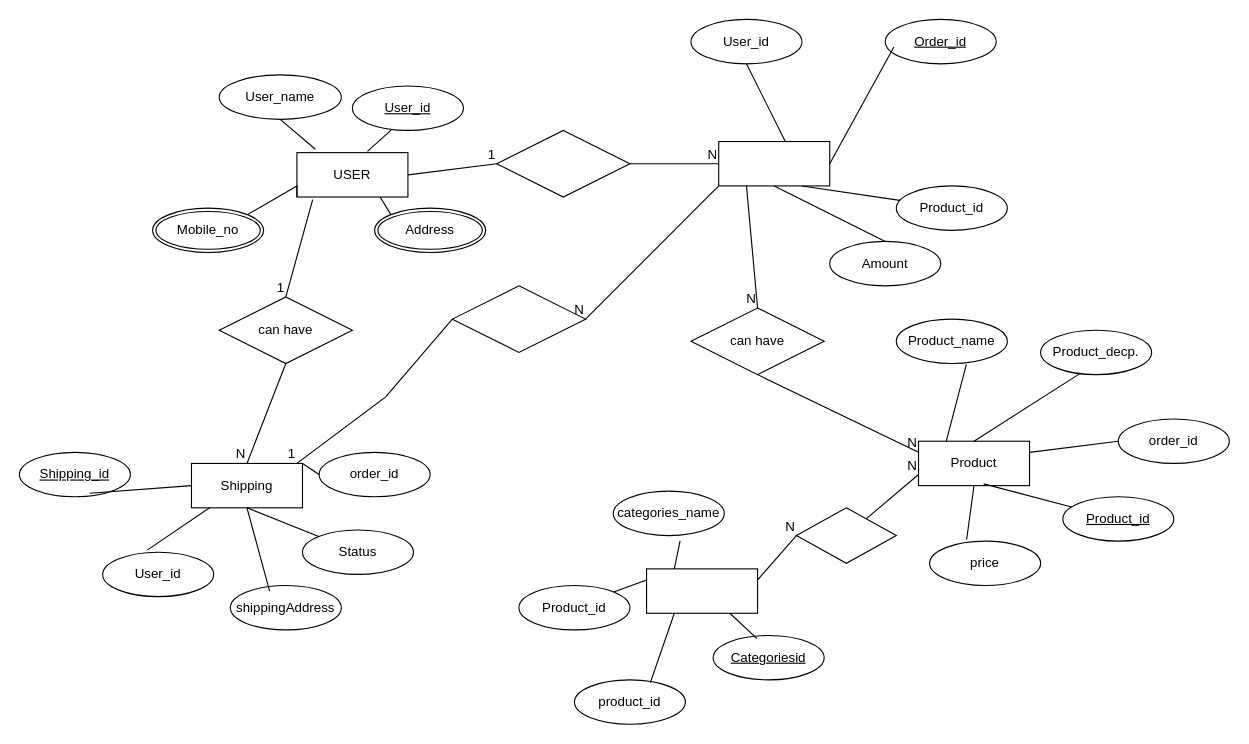
Some shapes in this 1249 by 744 pixel diagram are drawn without their labels. The centre of each missing label's shape, as x and y in pixels:
"belong to" goes at [845,535].
"Categories" goes at [701,590].
"has" goes at [518,318].
"makes" goes at [563,163].
"Order" goes at [774,163].
